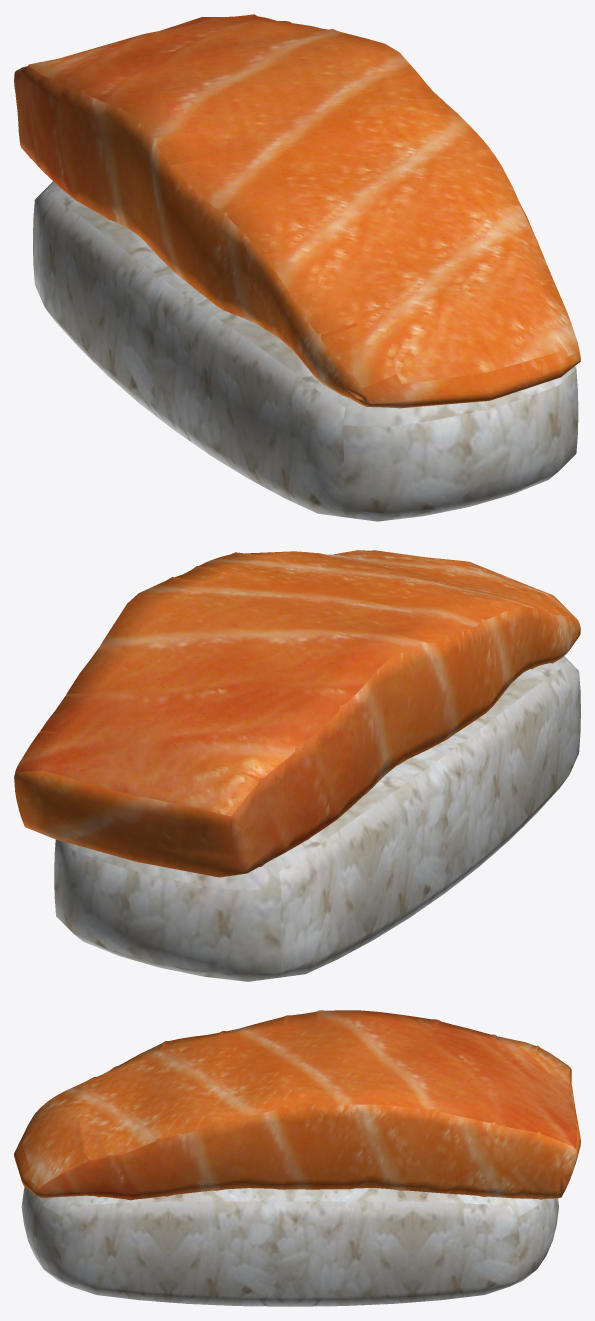
Rendered from Sushi 3.FBX.
3 views of the same model, one above another, from view 1: azimuth 30°, elevation 25°; view 2: azimuth 150°, elevation 25°; view 3: azimuth 270°, elevation 25° (orthographic). The views are drawn at different scales.
Parts seen in each view (by area): view 1: sushi 3; view 2: sushi 3; view 3: sushi 3.
Part boxes in pixels (box(x1,y1,x2,y2)): sushi 3: box(14, 14, 580, 521); sushi 3: box(14, 550, 580, 981); sushi 3: box(14, 1010, 580, 1306).
Bounding box in the file's own units: 2.51 × 2.43 × 5.79.
2 materials, 2 textured.
